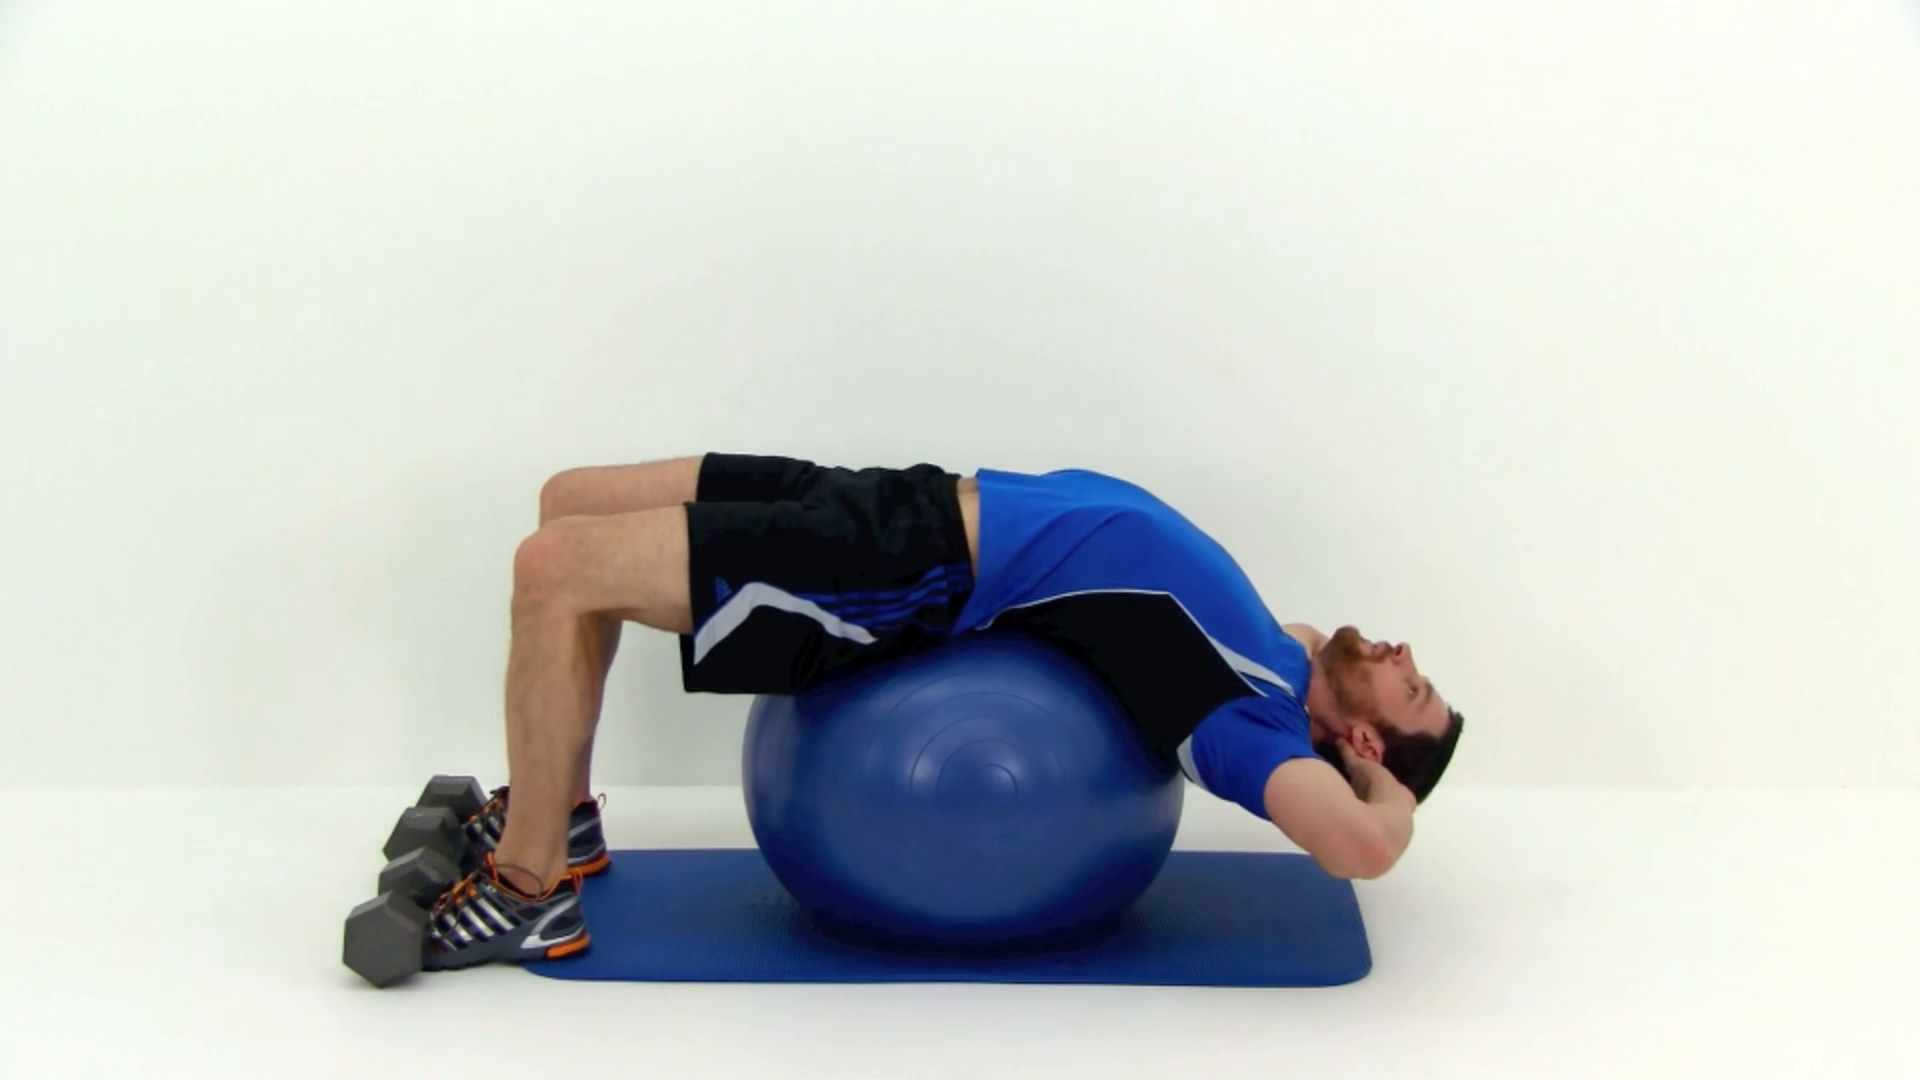yogaball: (727, 622, 1200, 957)
